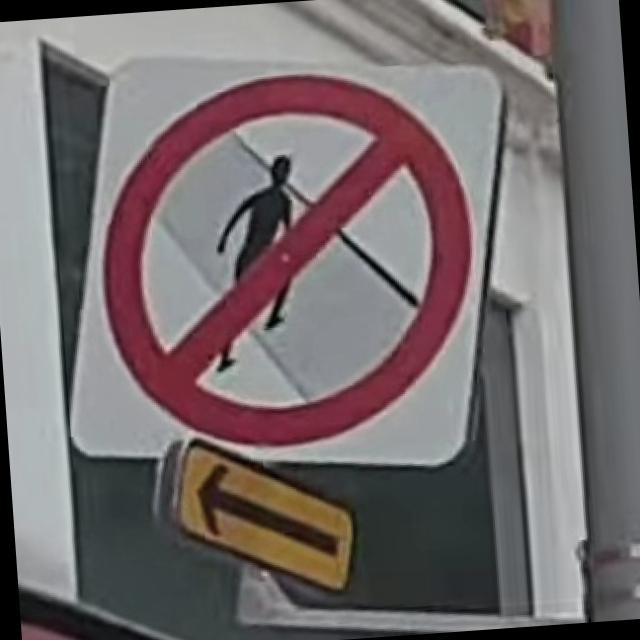nojaywalking_sign: (41, 27, 530, 494)
